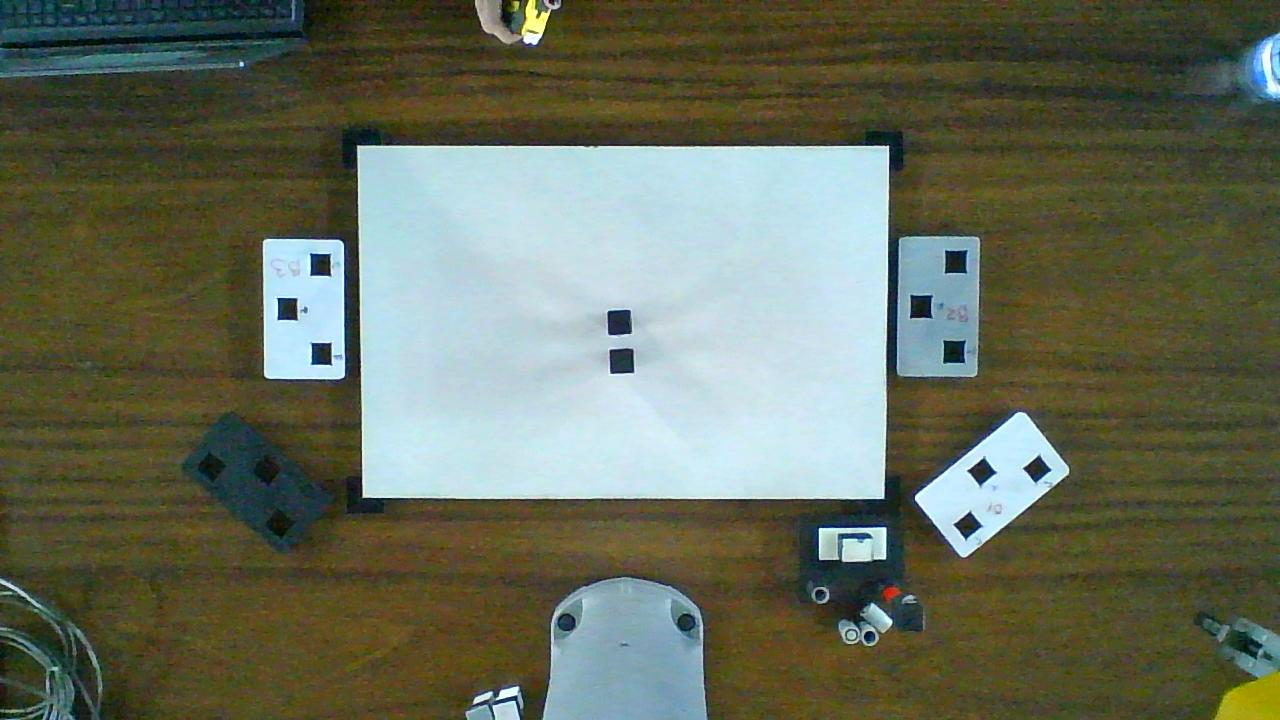peca_preta: (610, 351, 633, 374), (609, 311, 630, 334)
